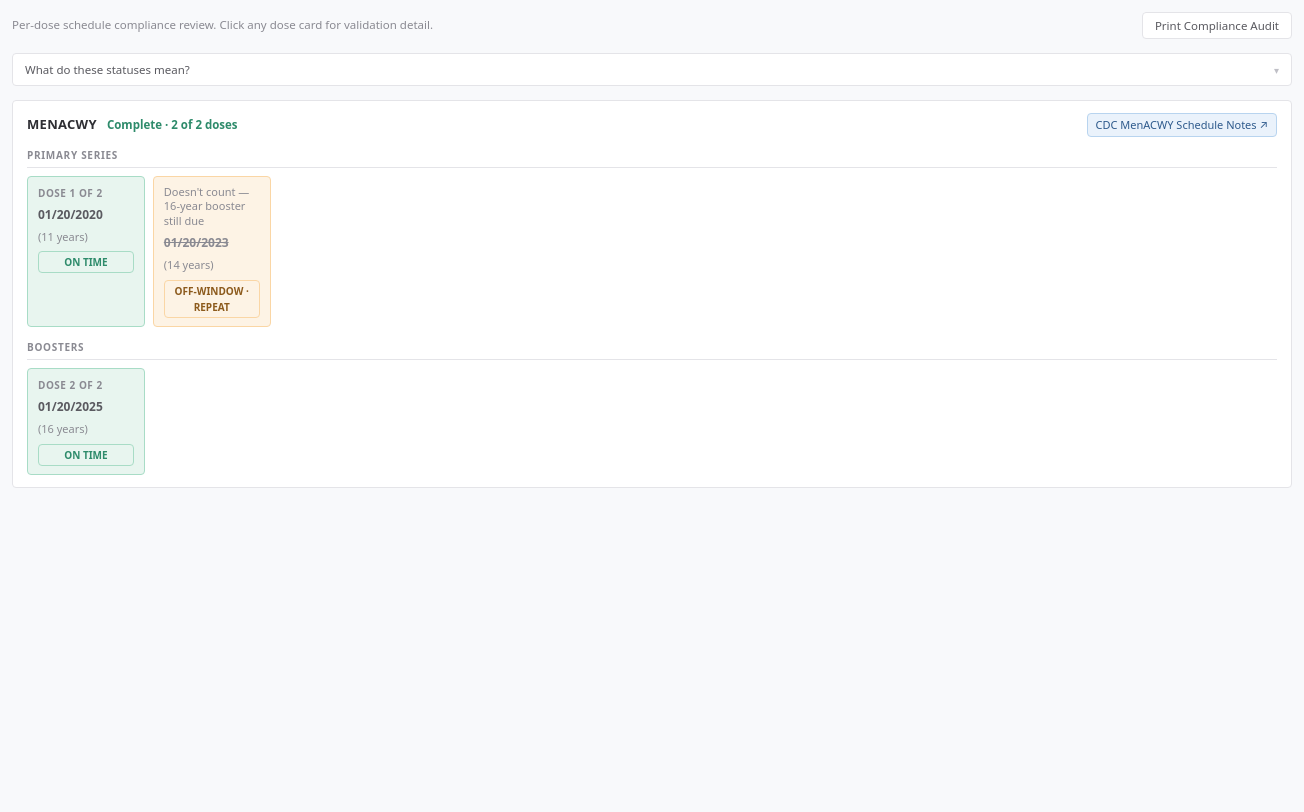
it: the popover behind a non-counting MenACWY dose › does not say "repeat owed" anywhere, in any length of words
Click the element with test id "dose-card-MenACWY-1" at (212, 251), box left=153, top=176, right=271, bottom=327
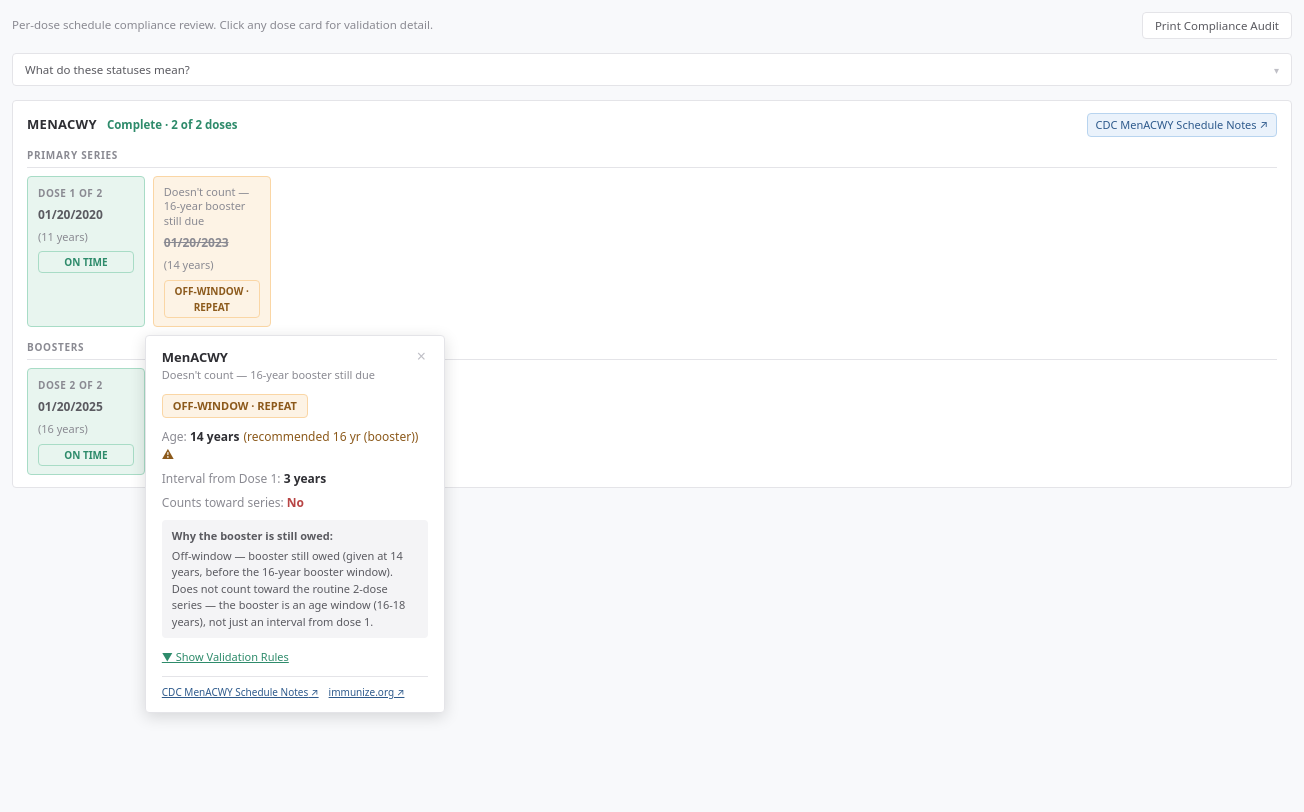
Expected: the element with test id "dose-compliance-popover" is shown, left=145, top=335, right=445, bottom=713
